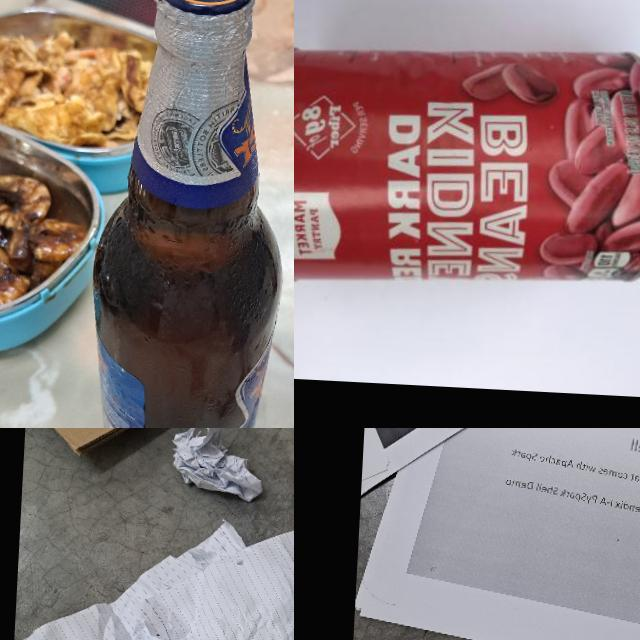garrafa de vidro: (79, 0, 294, 428)
lata: (294, 32, 640, 299)
papel: (351, 428, 640, 640), (5, 505, 249, 640), (126, 484, 294, 640), (168, 428, 266, 504)
papelão: (24, 428, 294, 469)
